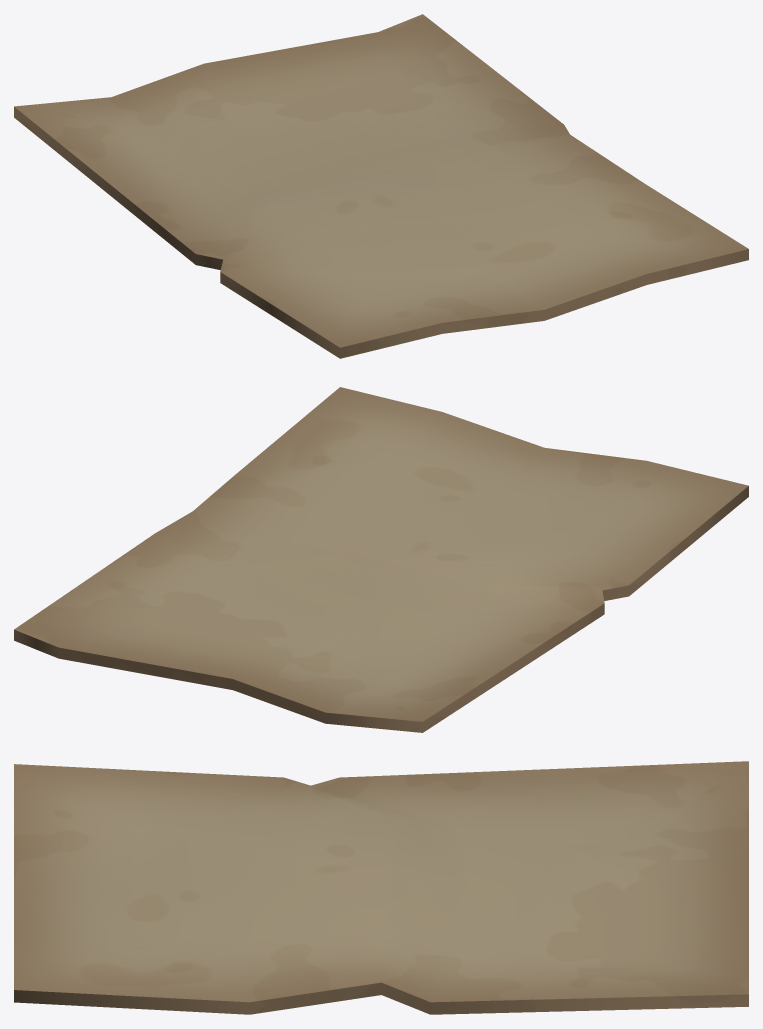
File: Paper_C.fbx
3 views of the same model, one above another, from view 1: azimuth 30°, elevation 25°; view 2: azimuth 150°, elevation 25°; view 3: azimuth 270°, elevation 25° (orthographic). The views are drawn at different scales.
Parts seen in each view (by area): view 1: U_Paper_C; view 2: U_Paper_C; view 3: U_Paper_C.
Boxes of the visible parts, left/top/right/bottom form: U_Paper_C: left=14, top=14, right=748, bottom=358; U_Paper_C: left=14, top=387, right=748, bottom=732; U_Paper_C: left=14, top=761, right=748, bottom=1014.
Size of the model in its own units: 57.91 by 3.46 by 80.02.
Materials: 1 (1 with a texture image).
